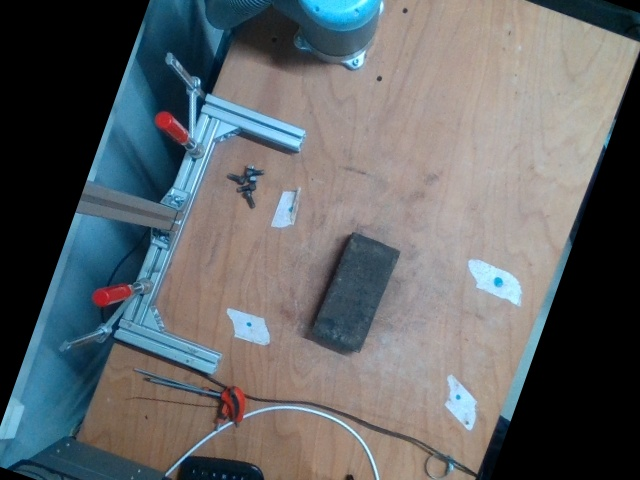brick: (311, 233, 399, 353)
